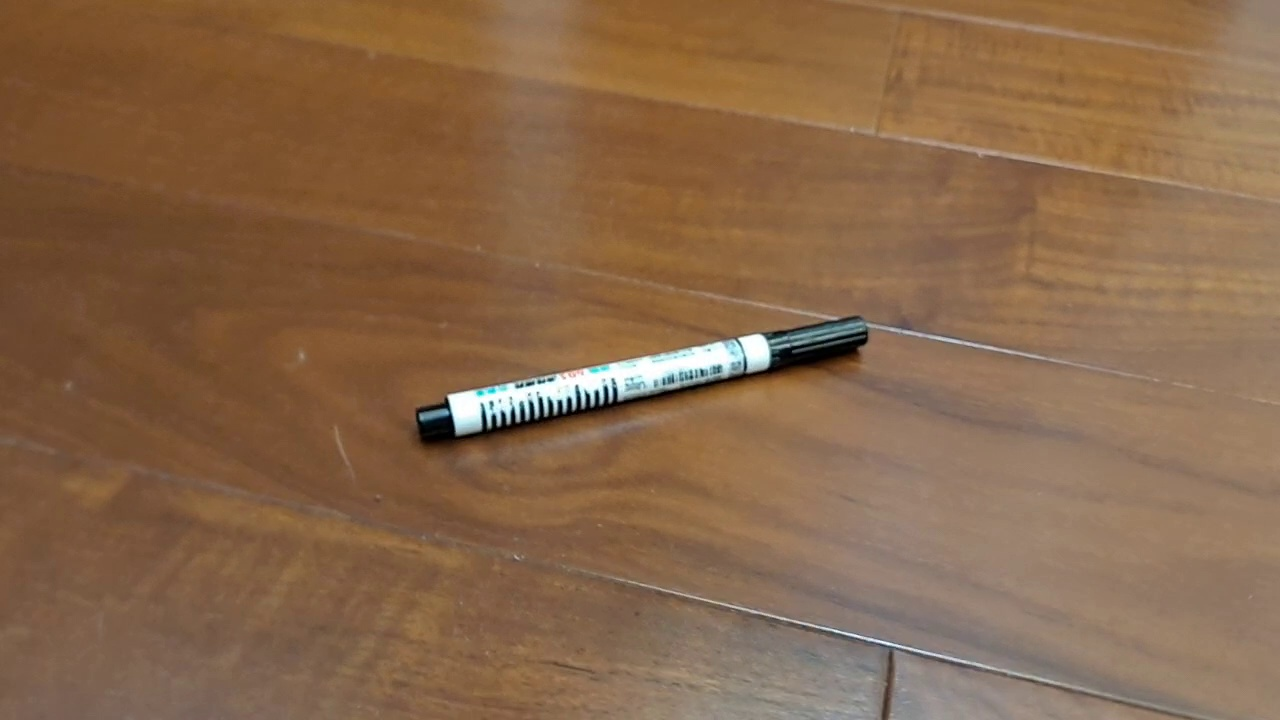pen: (415, 314, 869, 443)
